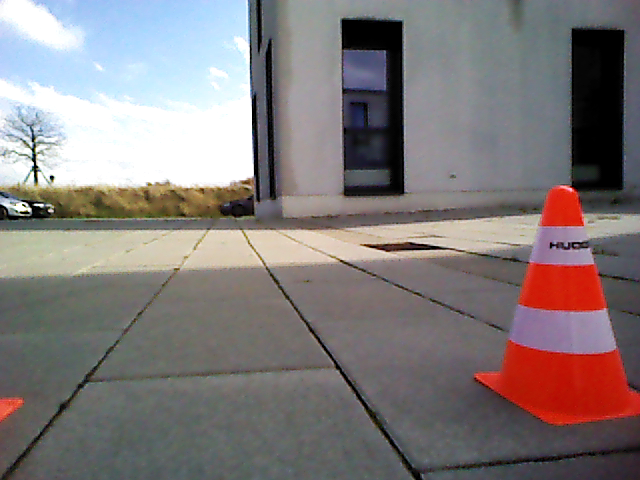orangeconesmall: (498, 184, 639, 415)
